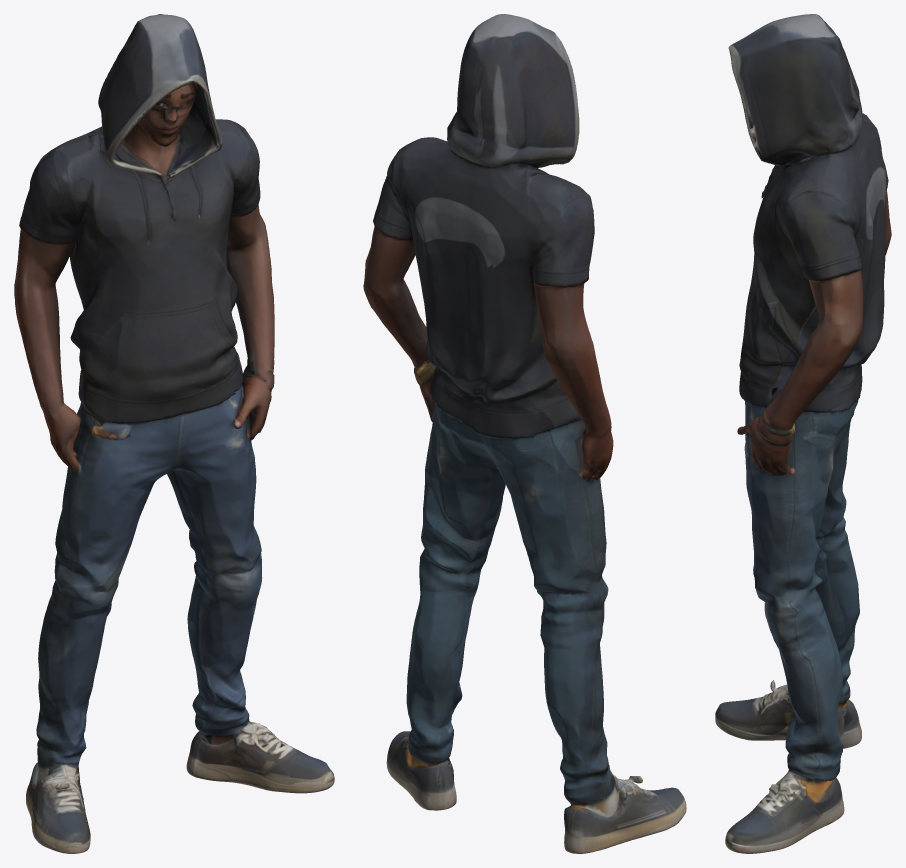
File: boy.glb
The picture shows the model from 3 angles, left to right: view 1: azimuth 30°, elevation 25°; view 2: azimuth 150°, elevation 25°; view 3: azimuth 270°, elevation 25°; orthographic projection. The views are drawn at different scales.
Size of the model in its own units: 0.7664 by 2 by 0.4135.
Materials: 1 (1 with a texture image).
